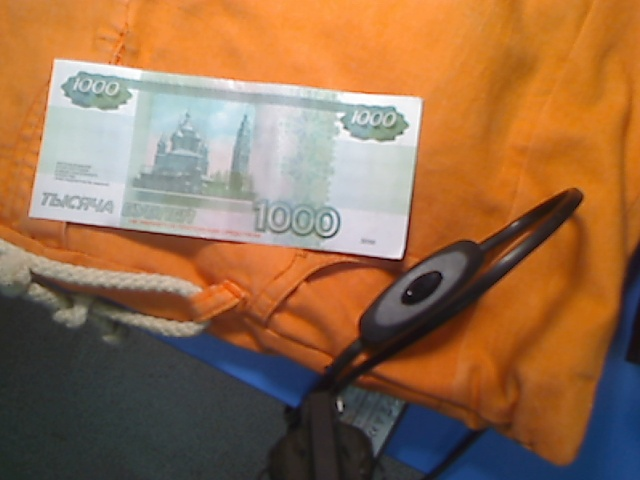banknotes: (26, 58, 423, 262)
